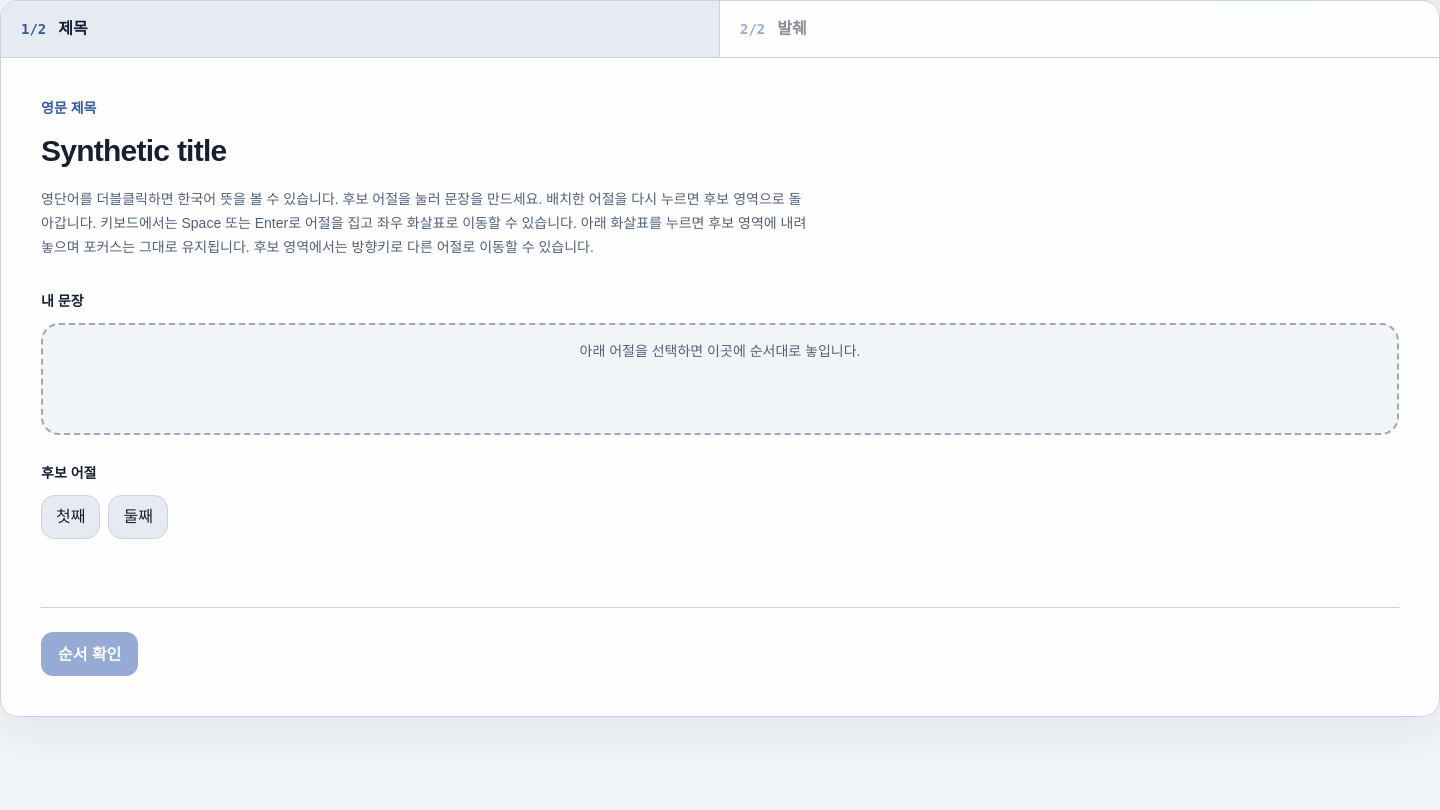
Test: LessonPlayer › places one correct block when the learner uses a staged hint
Click the button with aria-label "둘째 어절을 내 문장으로 이동" at (138, 517), box [108,495,168,539]
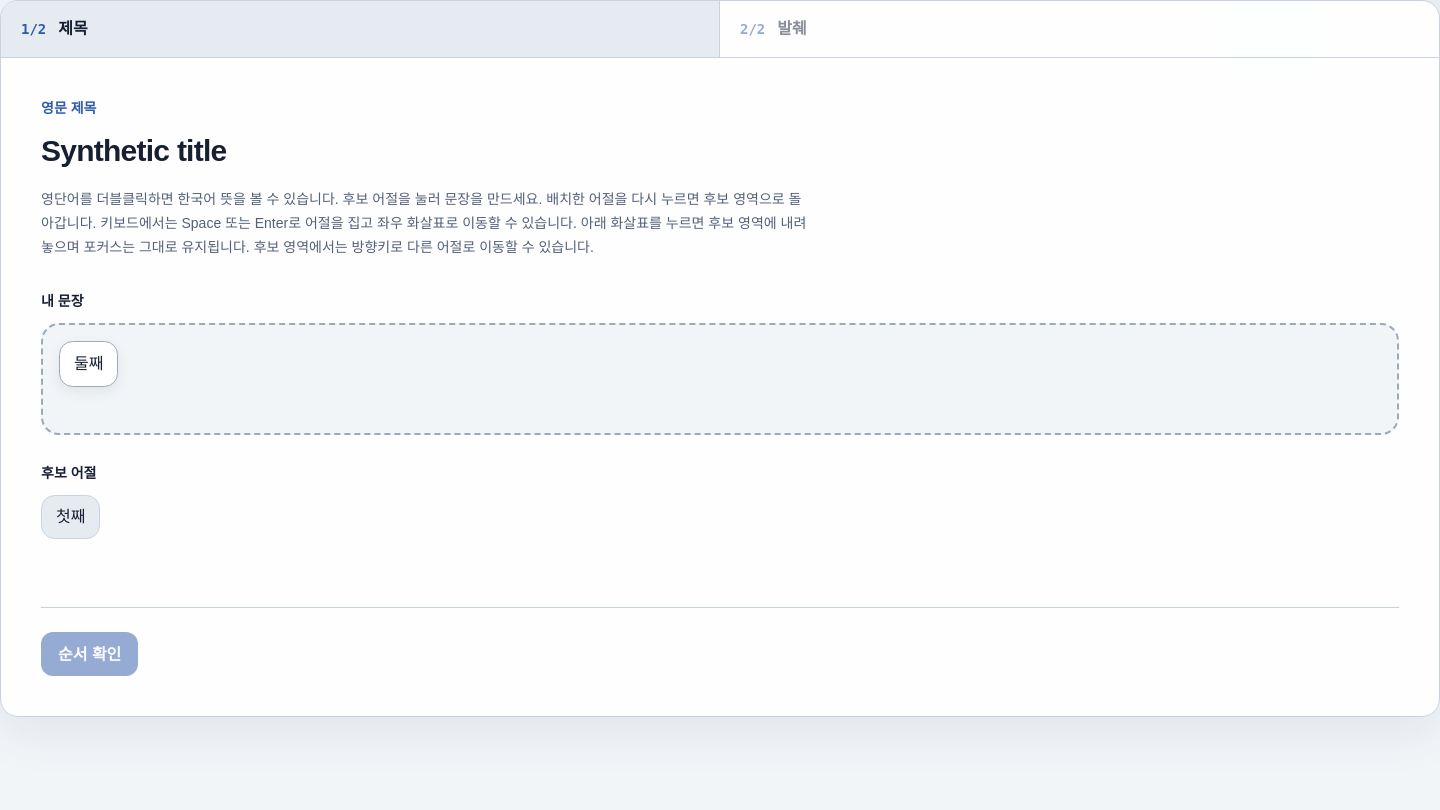
Click the button with aria-label "첫째 어절을 내 문장으로 이동" at (71, 517), box [41,495,100,539]
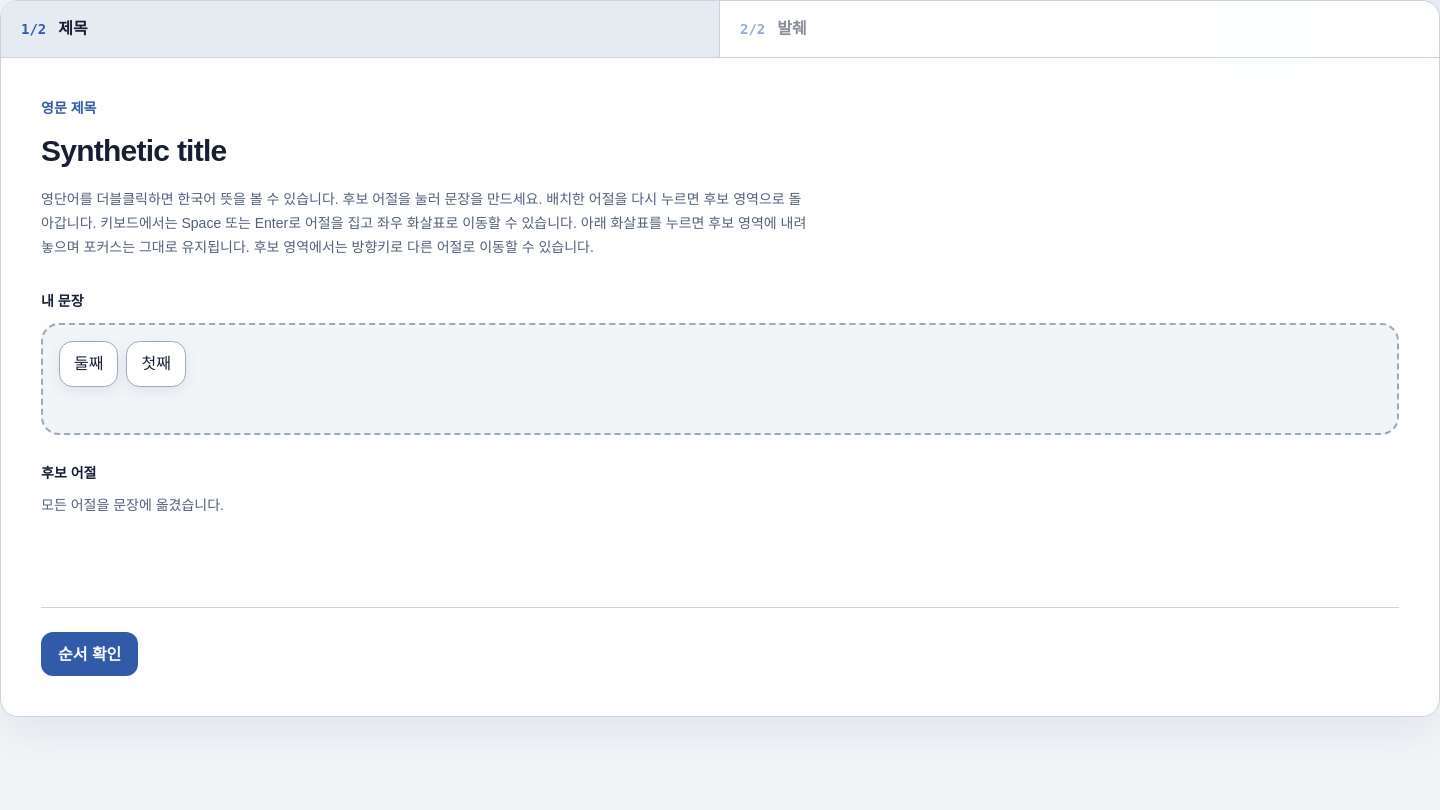
Click the button "순서 확인" at (90, 654), box [41,632,138,676]
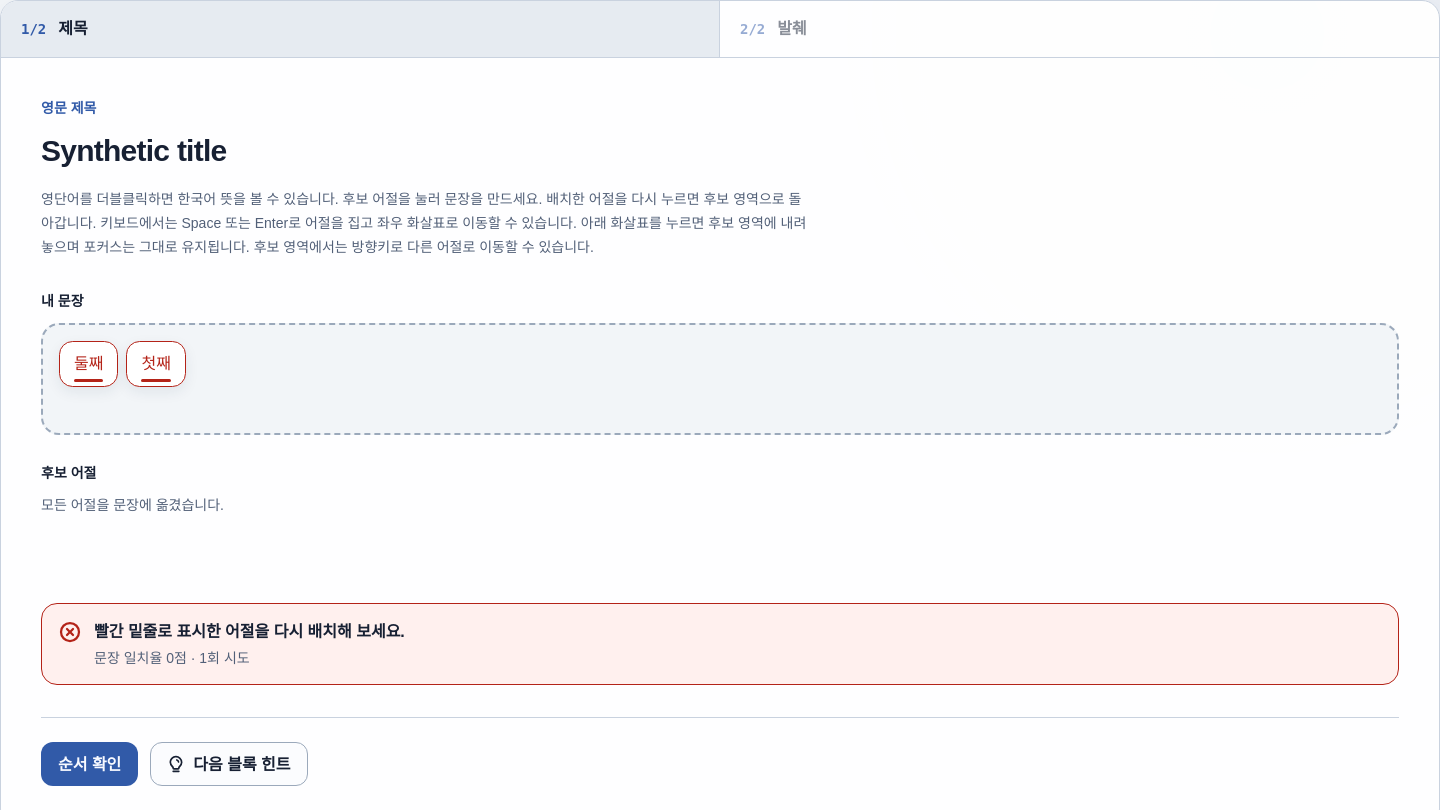
Click the button "다음 블록 힌트" at (229, 764), box [150,742,308,786]
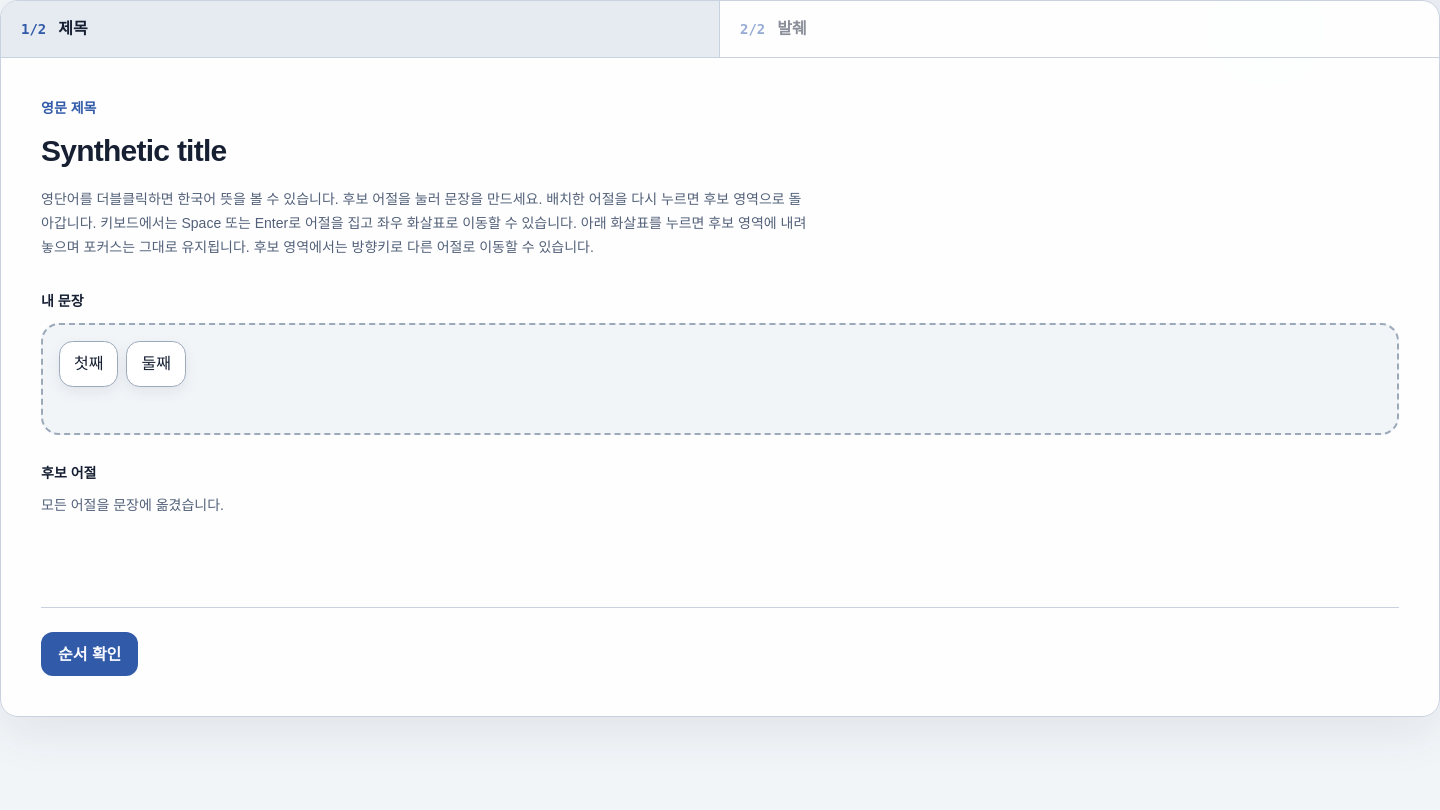
Expected: the button with aria-label "1번째 어절 첫째" is shown, [60,342,118,386]
Expected: the text "빨간 밑줄" is gone
